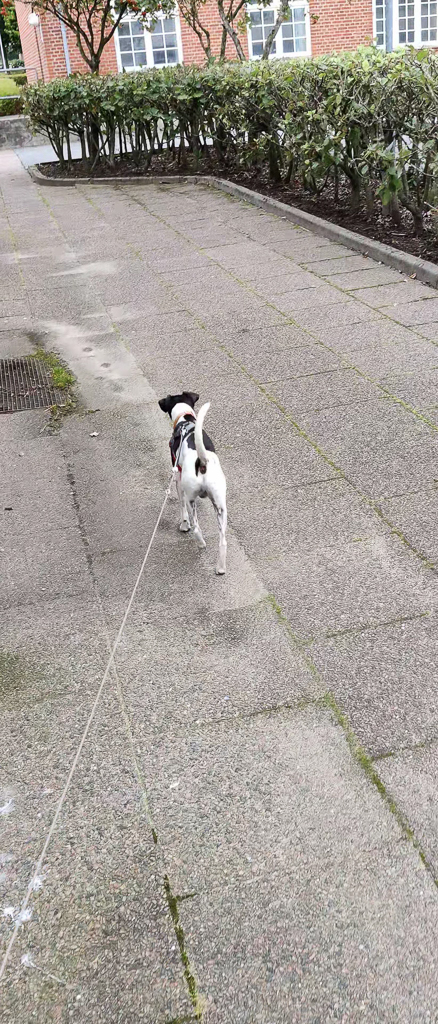Dog: (139, 377, 254, 593)
